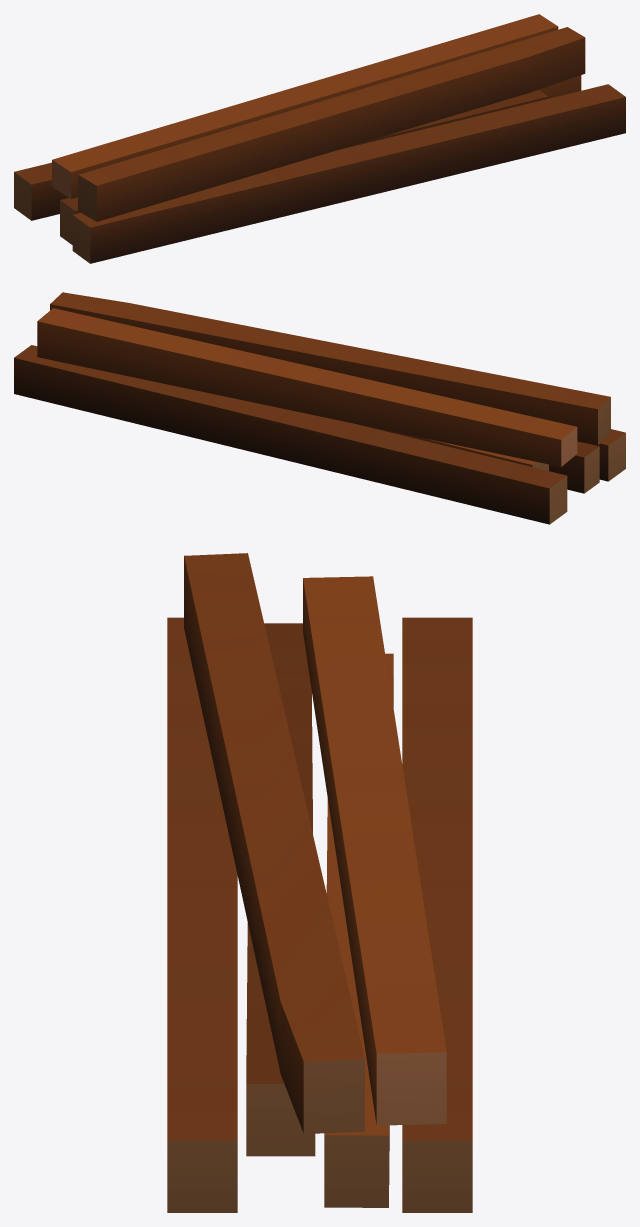
Rendered from Wood_Stack_2C.fbx.
3 views of the same model, one above another, from view 1: azimuth 30°, elevation 25°; view 2: azimuth 150°, elevation 25°; view 3: azimuth 270°, elevation 25° (orthographic). The views are drawn at different scales.
Parts seen in each view (by area): view 1: Wood_Stack_2C; view 2: Wood_Stack_2C; view 3: Wood_Stack_2C.
Part boxes in pixels (bbox=[...]): Wood_Stack_2C: bbox=[14, 14, 625, 263]; Wood_Stack_2C: bbox=[14, 292, 625, 524]; Wood_Stack_2C: bbox=[167, 553, 472, 1212].
Bounding box in the file's own units: 387 × 50 × 95.57.
